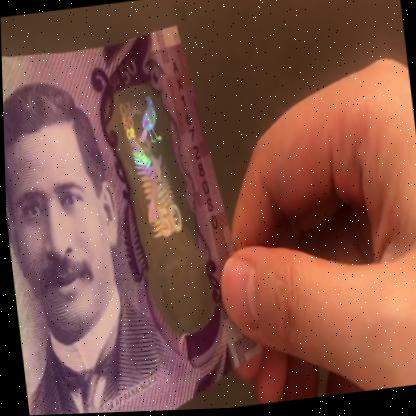50F: (113, 87, 202, 328)
